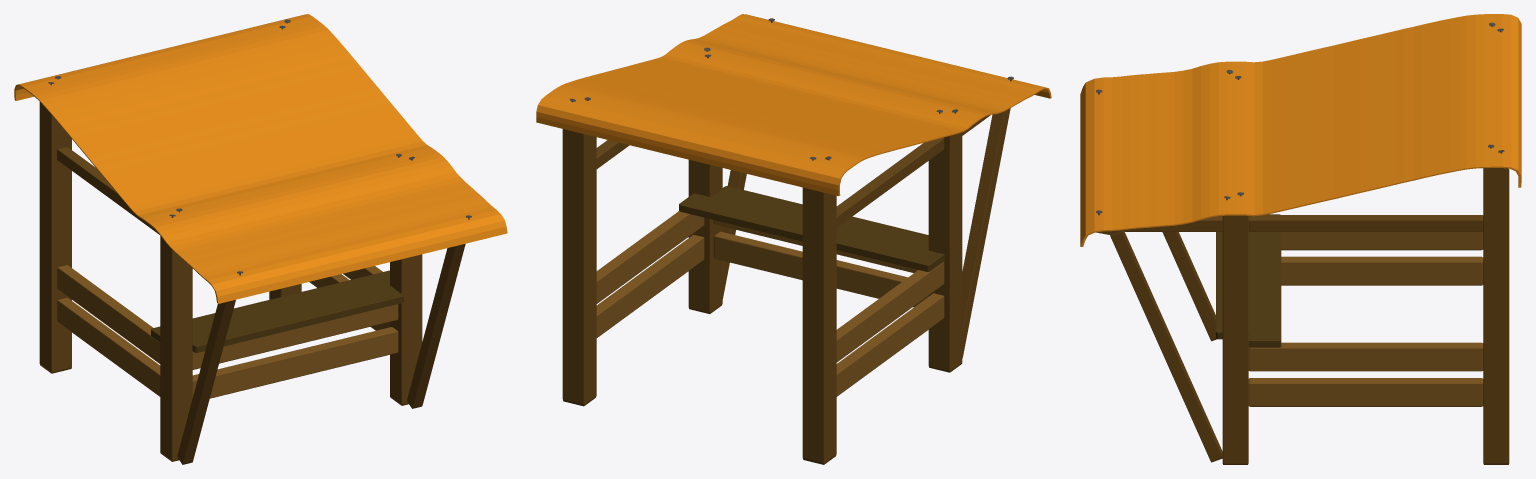
The model's file is Shop.fbx.
The picture shows the model from 3 angles, left to right: view 1: azimuth 30°, elevation 25°; view 2: azimuth 150°, elevation 25°; view 3: azimuth 270°, elevation 25°; orthographic projection. The views are drawn at different scales.
Parts seen in each view (by area): view 1: Plane, PfosteR.003, PfostenL.001, PfosteR.002, PfosteR.006, PfostenL, PfosteR, PfosteR.011, PfosteR.010, PfosteR.005, PfosteR.004; view 2: Plane, PfostenL.001, PfosteR.001, PfosteR.002, PfosteR.006, PfosteR.004, PfostenL, PfosteR.003, PfosteR.010, PfosteR, PfosteR.005, PfosteR.011; view 3: Plane, PfosteR.004, PfosteR.006, PfosteR.001, PfosteR, PfosteR.002, PfosteR.007, PfosteR.011, PfosteR.010, PfosteR.008.
Part boxes in pixels (x1,y1,x2,y2): Plane: (14,14,507,303); PfosteR.003: (192,304,398,398); PfostenL.001: (39,102,71,373); PfosteR.002: (151,270,403,352); PfosteR.006: (57,265,160,396); PfostenL: (160,236,192,461); PfosteR: (390,254,422,405); PfosteR.011: (407,243,465,408); PfosteR.010: (177,300,235,464); PfosteR.005: (57,147,159,234); PfosteR.004: (309,266,389,330); Plane: (536,14,1051,196); PfostenL.001: (802,187,836,464); PfosteR.001: (562,129,596,406); PfosteR.002: (679,186,944,271); PfosteR.006: (836,262,944,396); PfosteR.004: (596,211,704,337); PfostenL: (928,132,962,372); PfosteR.003: (713,220,928,307); PfosteR.010: (962,108,1010,358); PfosteR: (688,160,722,313); PfosteR.005: (836,137,944,227); PfosteR.011: (722,170,746,298); Plane: (1080,14,1521,246); PfosteR.004: (1248,342,1483,406); PfosteR.006: (1281,232,1483,285); PfosteR.001: (1483,168,1509,464); PfosteR: (1222,215,1248,464); PfosteR.002: (1216,214,1281,347); PfosteR.007: (1248,215,1483,231); PfosteR.011: (1110,230,1222,462); PfosteR.010: (1162,232,1216,341); PfosteR.008: (1096,216,1222,234).
Bounding box in the file's own units: 277 × 264 × 338.
